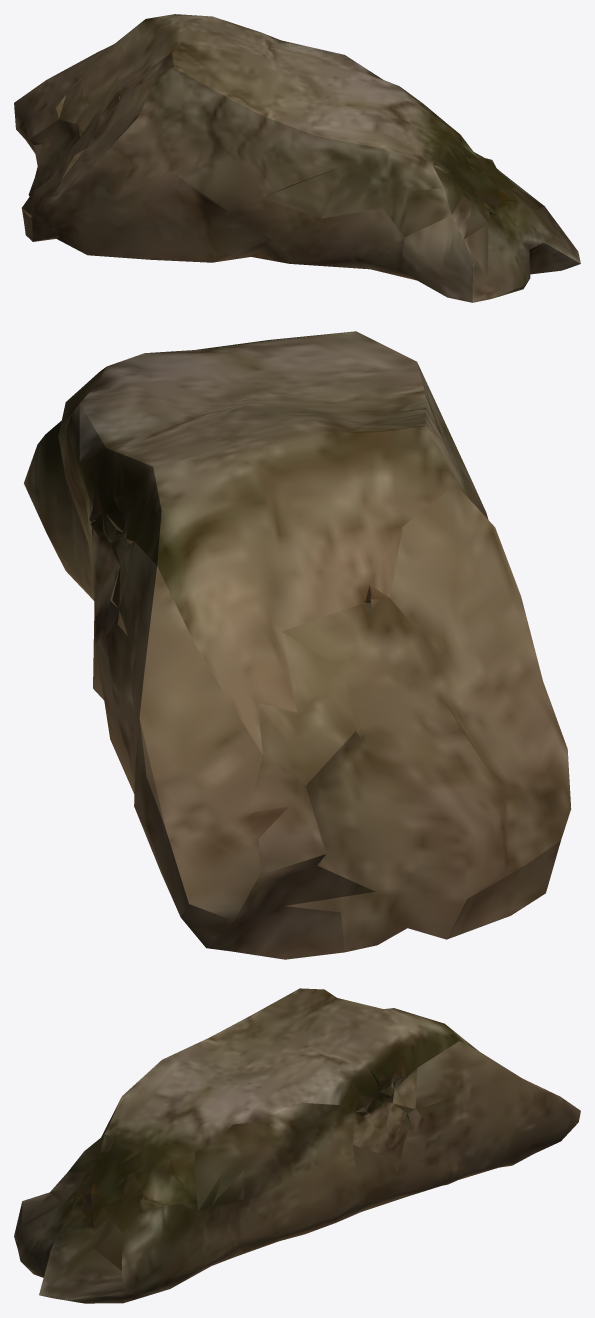
File: rock_set_2.glb
The picture shows the model from 3 angles, top to bottom: view 1: azimuth 30°, elevation 25°; view 2: azimuth 150°, elevation 25°; view 3: azimuth 270°, elevation 25°; orthographic projection. The views are drawn at different scales.
Parts seen in each view (by area): view 1: rock_set_2; view 2: rock_set_2; view 3: rock_set_2.
Part boxes in pixels (<box>): rock_set_2: <box>14,14,580,302</box>; rock_set_2: <box>24,331,571,959</box>; rock_set_2: <box>14,988,580,1303</box>.
Size of the model in its own units: 2.65 by 1.23 by 3.27.
Materials: 1 (1 with a texture image).
